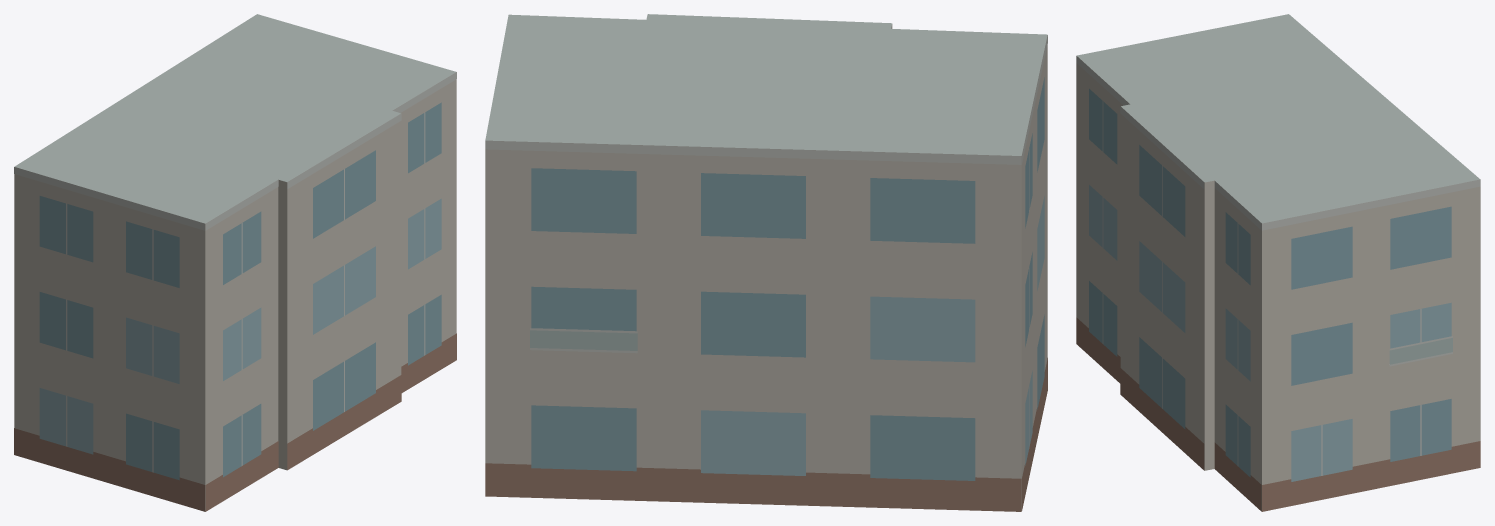
File: survey-upis-33014857.glb
The picture shows the model from 3 angles, left to right: view 1: azimuth 30°, elevation 25°; view 2: azimuth 150°, elevation 25°; view 3: azimuth 270°, elevation 25°; orthographic projection. The views are drawn at different scales.
Visible parts, largest first — view 1: survey-upis-33014857.tmp; view 2: survey-upis-33014857.tmp; view 3: survey-upis-33014857.tmp.
Part boxes in pixels (x1,y1,x2,y2): survey-upis-33014857.tmp: (14, 14, 456, 511); survey-upis-33014857.tmp: (485, 14, 1047, 511); survey-upis-33014857.tmp: (1076, 14, 1480, 511).
Size of the model in its own units: 15.28 by 9.8 by 12.46.
